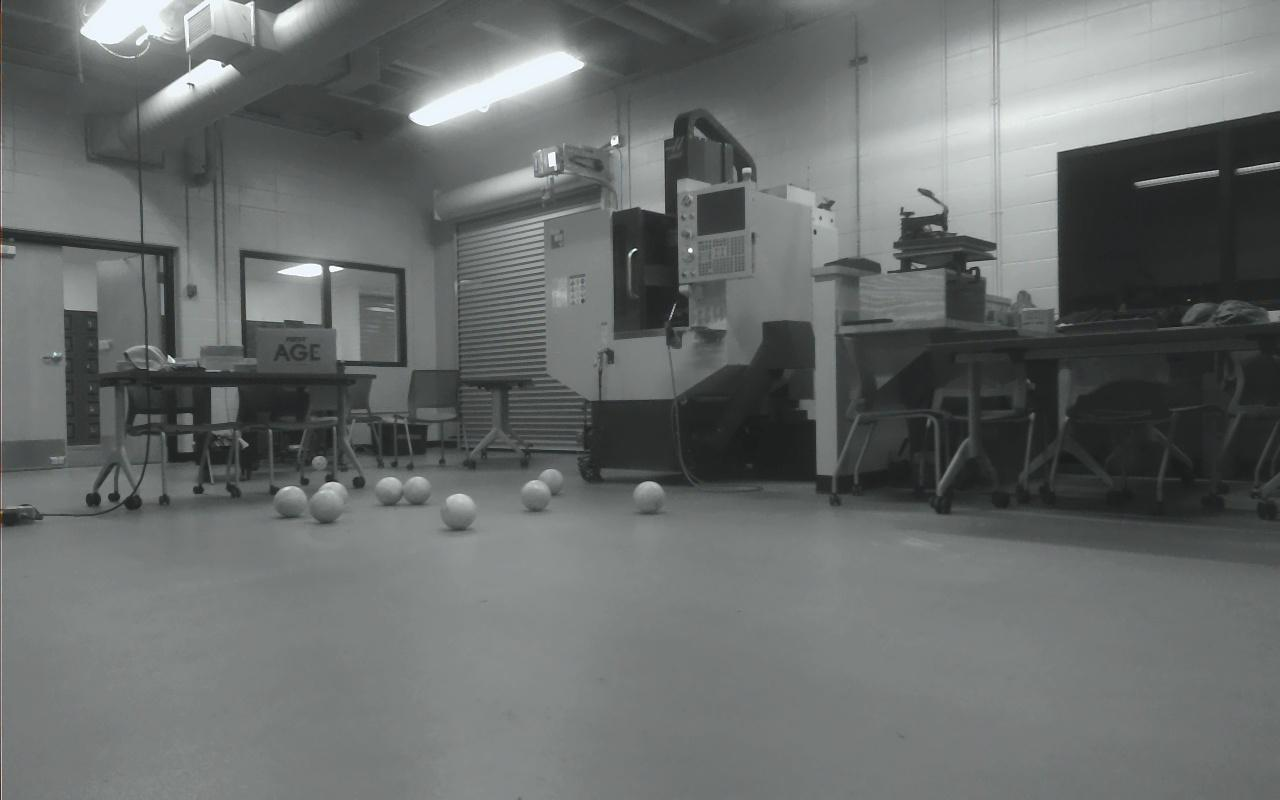Fuel: (440, 493, 476, 530), (308, 490, 343, 524), (274, 485, 306, 517), (632, 481, 664, 513), (520, 480, 550, 511), (375, 476, 403, 506), (403, 476, 431, 505), (316, 482, 346, 507), (539, 468, 564, 495)
